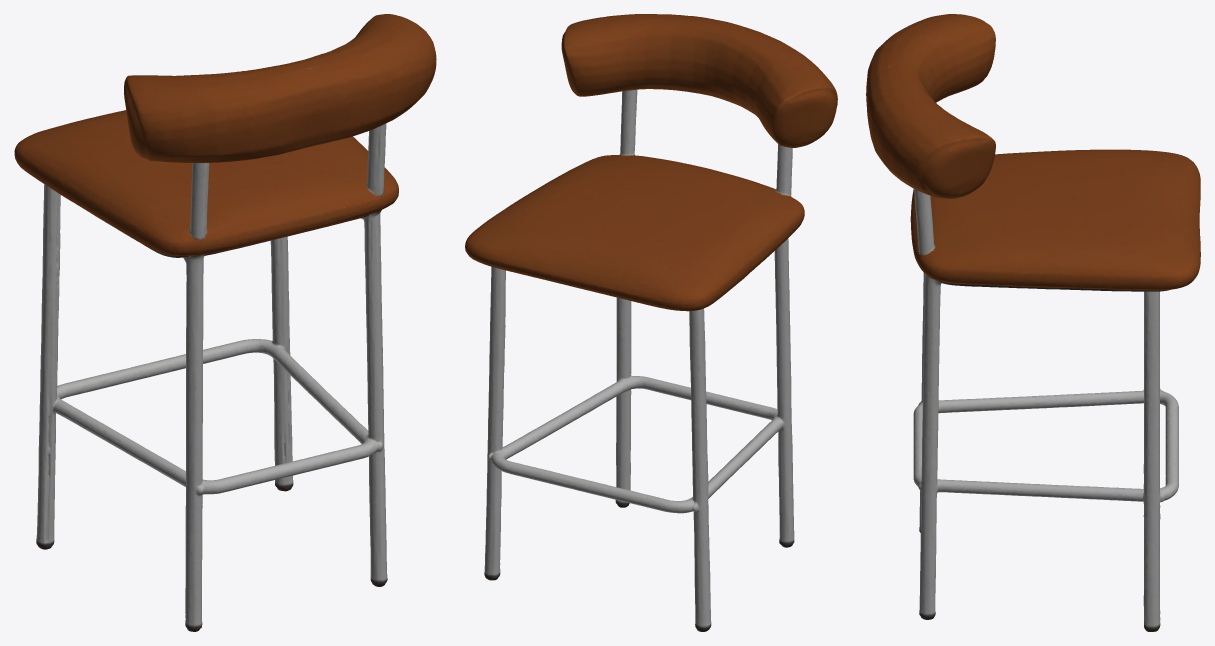
Rendered from mesa.glb.
The picture shows the model from 3 angles, left to right: view 1: azimuth 30°, elevation 25°; view 2: azimuth 150°, elevation 25°; view 3: azimuth 270°, elevation 25°; orthographic projection. The views are drawn at different scales.
Visible parts, largest first — view 1: world; view 2: world; view 3: world.
Boxes of the visible parts, x1,y1,x2,y2 form: world: (14,14,436,631); world: (465,14,837,631); world: (866,14,1200,631).
Size of the model in its own units: 0.5679 by 1 by 0.595.
Materials: 1 (1 with a texture image).
